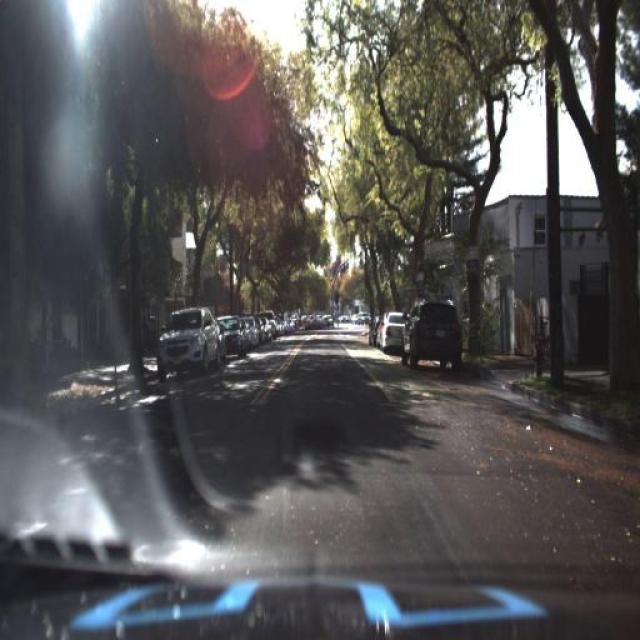car: (148, 302, 220, 378), (400, 297, 465, 368), (400, 298, 466, 367), (380, 306, 406, 349), (382, 313, 406, 356)
